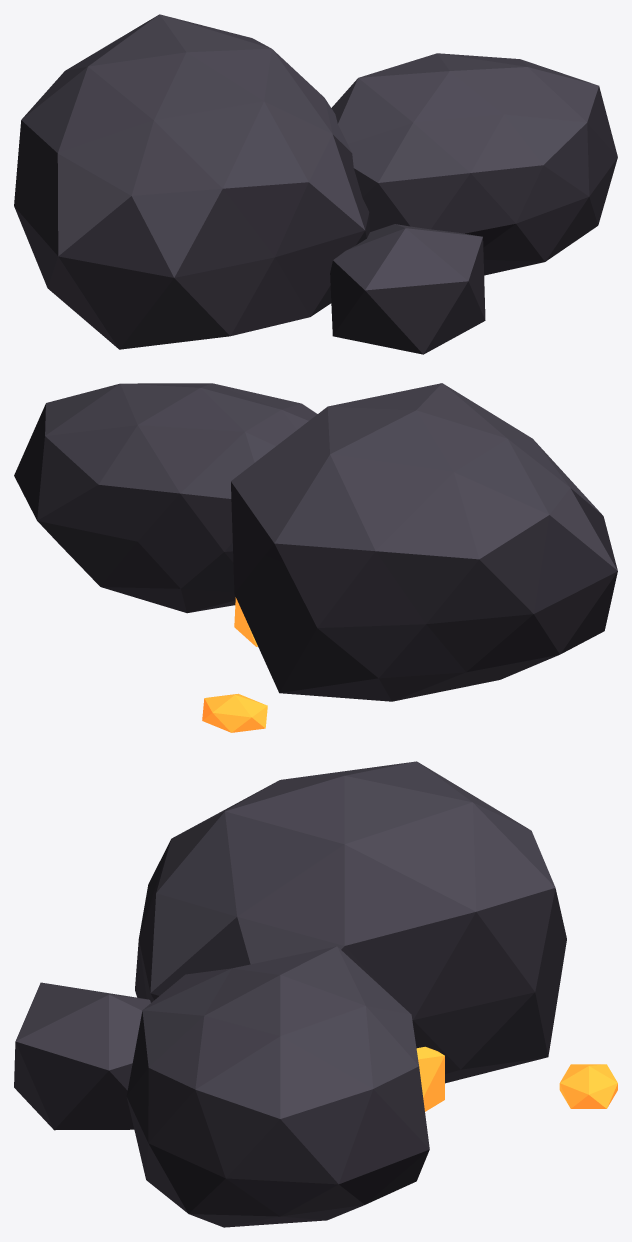
File: lava_rock_b.glb
3 renders of one model, top to bottom at view 1: azimuth 30°, elevation 25°; view 2: azimuth 150°, elevation 25°; view 3: azimuth 270°, elevation 25°, orthographic. The views are drawn at different scales.
Visible parts, largest first — view 1: lava_rock_b; view 2: lava_rock_b; view 3: lava_rock_b.
Boxes of the visible parts, x1,y1,x2,y2 form: lava_rock_b: (14,14,617,354); lava_rock_b: (14,383,617,732); lava_rock_b: (14,761,617,1227).
Bounding box in the file's own units: 1.73 × 0.7207 × 1.41.
